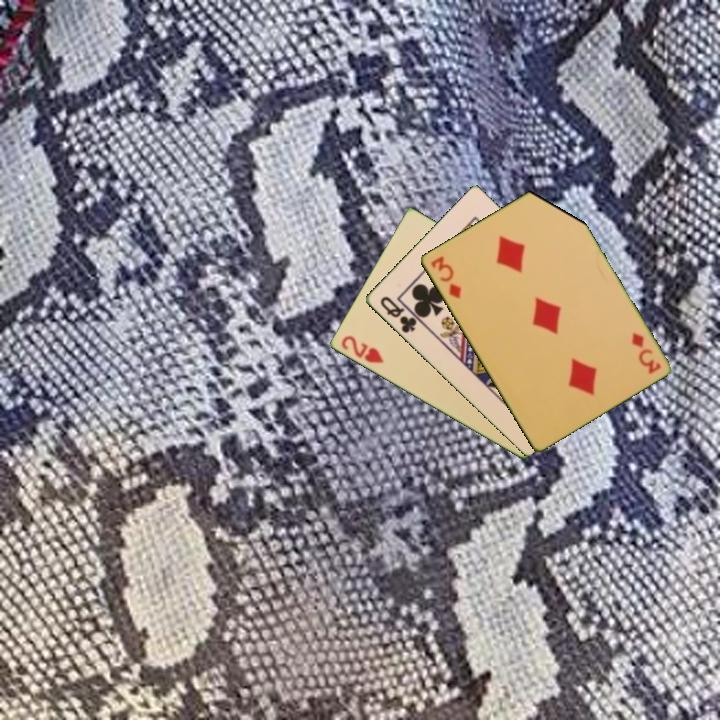2h: (337, 332, 386, 366)
3d: (427, 252, 464, 302), (628, 329, 663, 377)
Qc: (376, 293, 419, 336)
